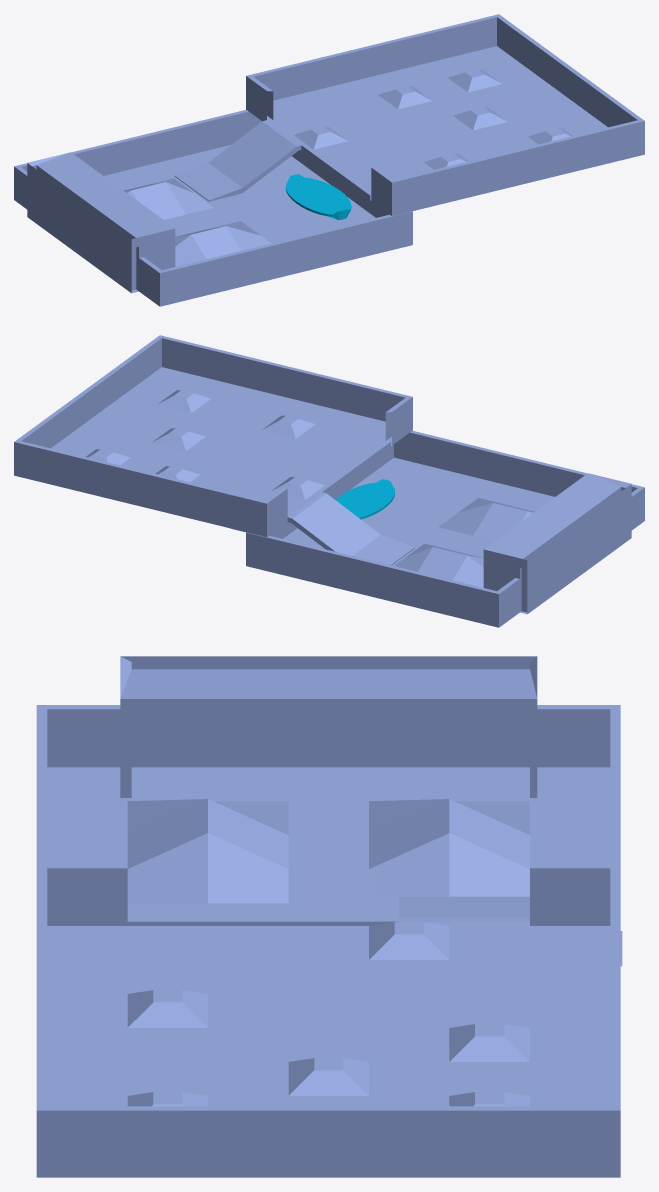
File: play1.gltf
The picture shows the model from 3 angles, top to bottom: view 1: azimuth 30°, elevation 25°; view 2: azimuth 150°, elevation 25°; view 3: azimuth 270°, elevation 25°; orthographic projection. The views are drawn at different scales.
Visible parts, largest first — view 1: ground, spring; view 2: ground, spring; view 3: ground.
Part boxes in pixels (x1,y1,x2,y2): ground: (14,14,644,306); spring: (285,174,351,220); ground: (14,335,644,627); spring: (336,479,394,519); ground: (36,656,622,1177).
Bounding box in the file's own units: 12.12 × 1.59 × 6.23.
